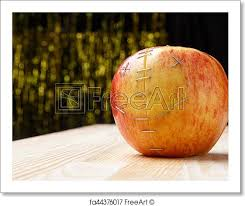damaged_apple: (112, 48, 225, 161)
